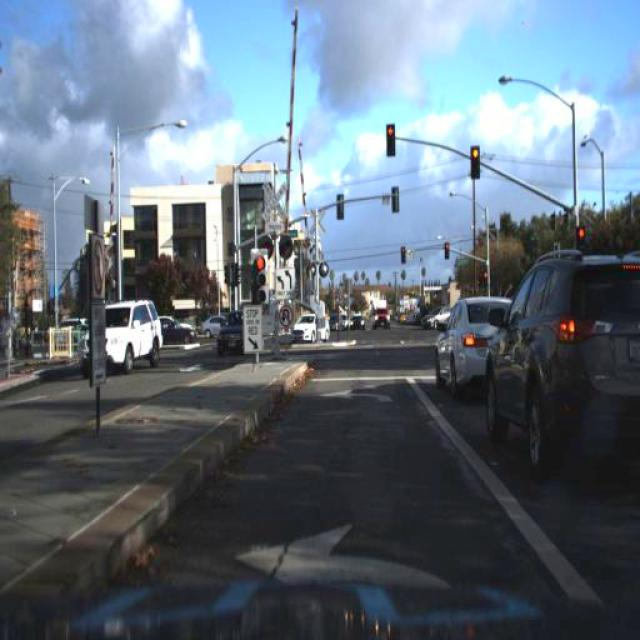semaforo: (470, 146, 481, 179), (386, 124, 397, 156)
